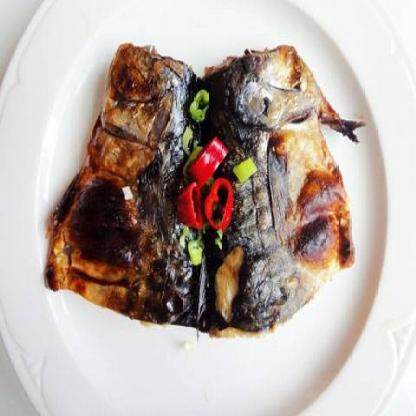Peixe: (43, 33, 370, 350)
